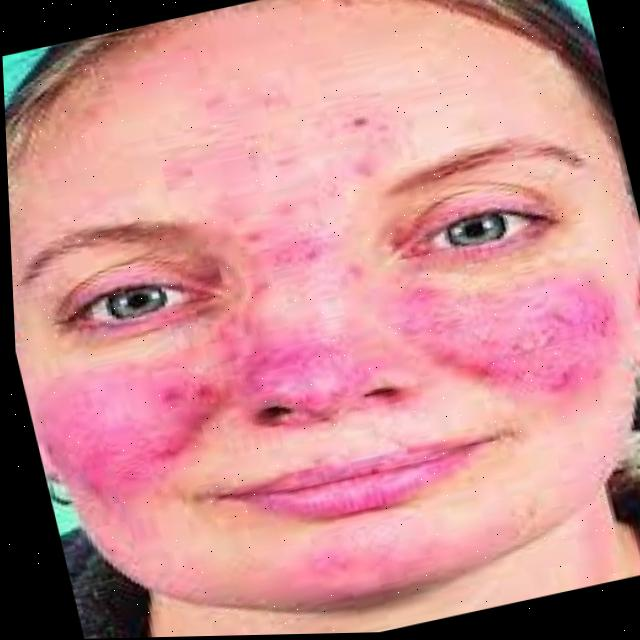Rosacea: (14, 243, 612, 523), (212, 85, 411, 288), (318, 516, 441, 617)
